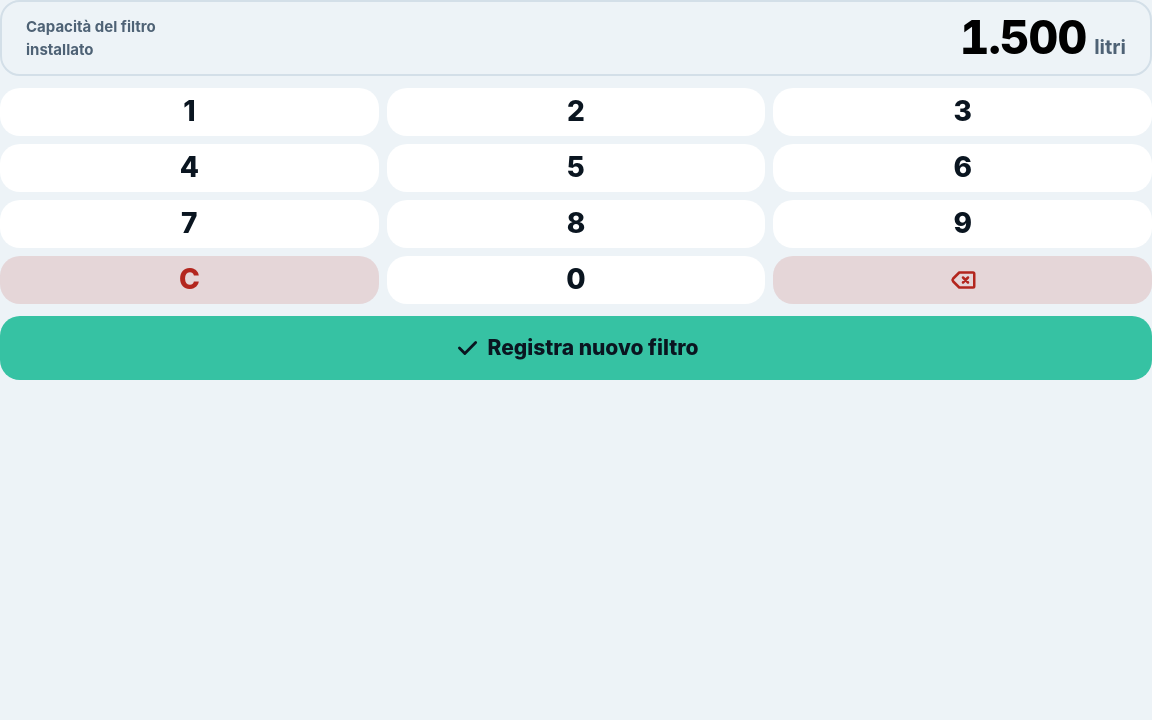
Test case: KeyPadPanel › asks to confirm the value before saving anything
The width and height of the screenshot is (1152, 720).
Click the button "Registra nuovo filtro".
click(576, 348)  # box x1=0 y1=316 x2=1151 y2=380
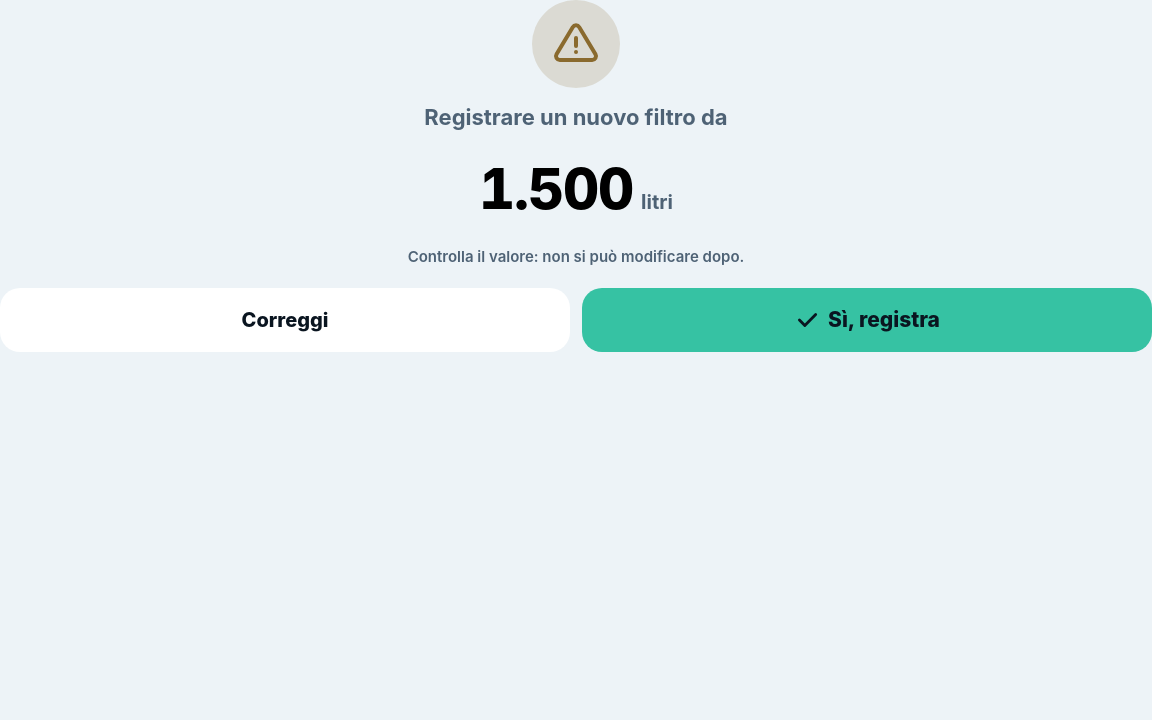
Expected: the dialog named "Conferma registrazione" shows "1.500 litri", x1=0 y1=0 x2=1151 y2=352
Result: the dialog named "Conferma registrazione" shows "Registrare un nuovo filtro da" at x1=424 y1=104 x2=728 y2=130
